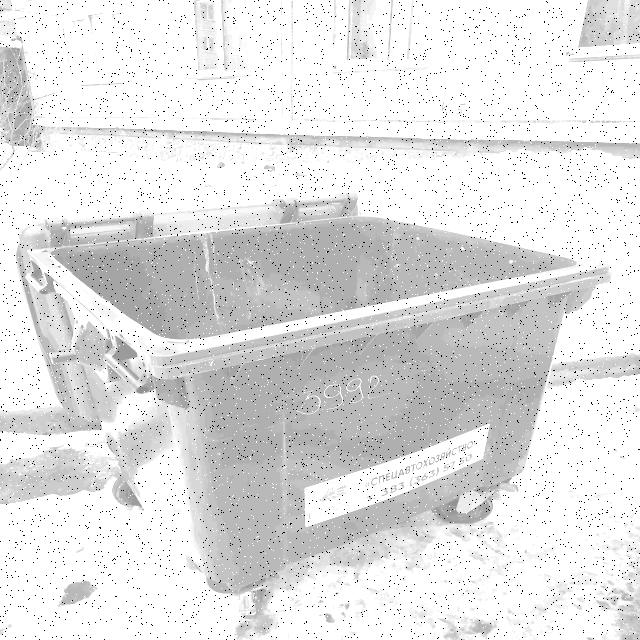Trashcan: (14, 155, 615, 617)
